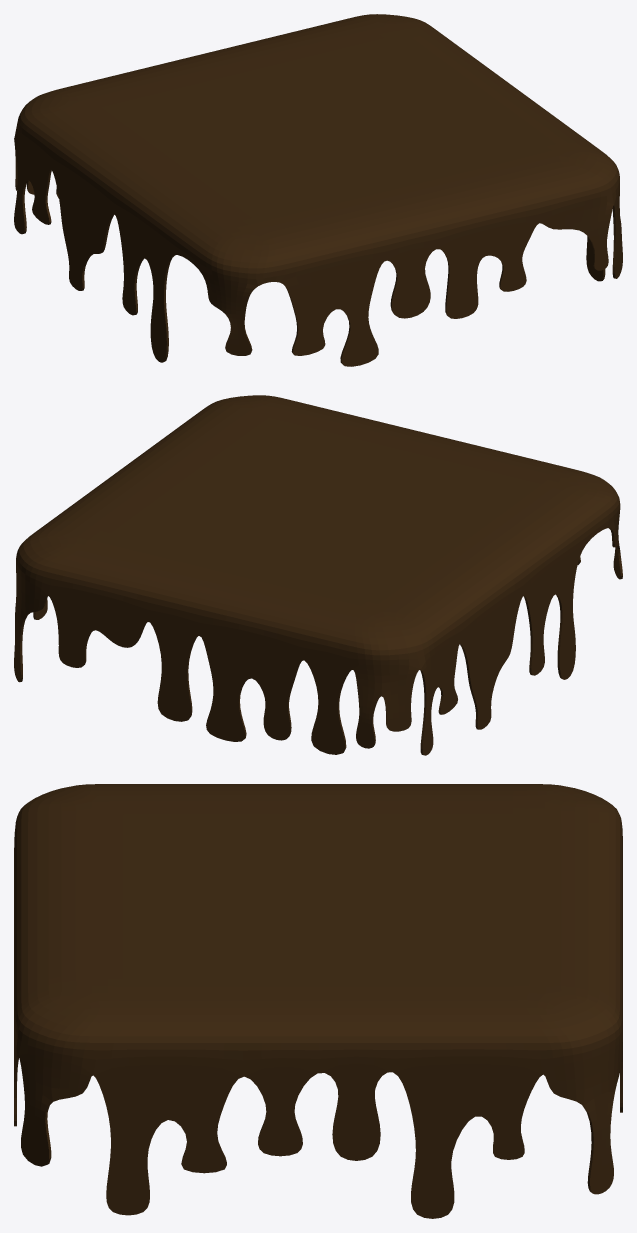
File: GlazeChoco.glb
3 renders of one model, top to bottom at view 1: azimuth 30°, elevation 25°; view 2: azimuth 150°, elevation 25°; view 3: azimuth 270°, elevation 25°, orthographic. The views are drawn at different scales.
Parts seen in each view (by area): view 1: Cube.030; view 2: Cube.030; view 3: Cube.030.
Part boxes in pixels (x1=…): Cube.030: x1=14, y1=14, x2=622, y2=366; Cube.030: x1=14, y1=395, x2=622, y2=755; Cube.030: x1=14, y1=784, x2=622, y2=1218.
Size of the model in its own units: 1.99 by 0.7048 by 1.99.
